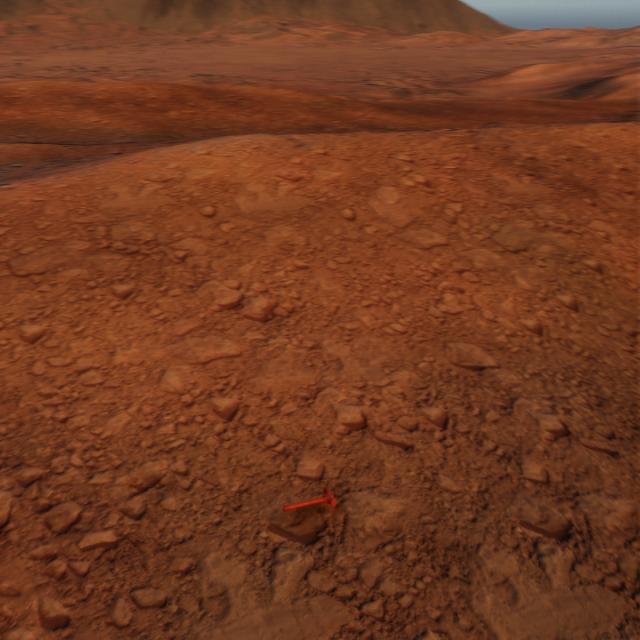newhammer: (283, 487, 336, 512)
